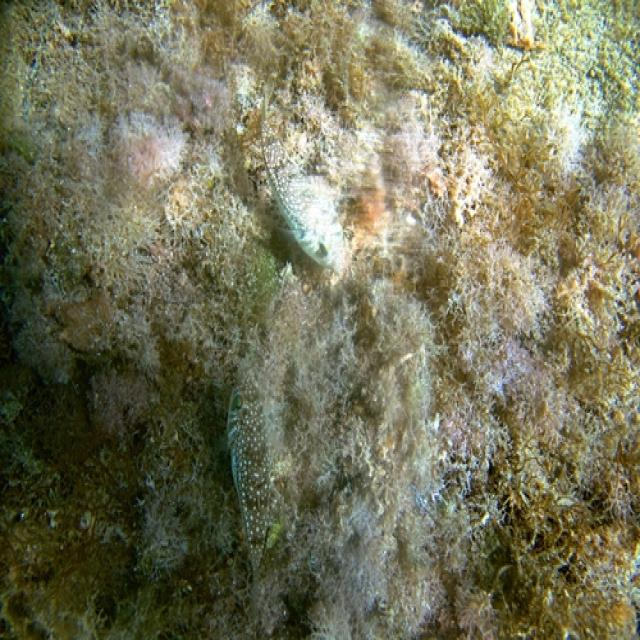Balik: (263, 98, 346, 271), (228, 390, 275, 573)
